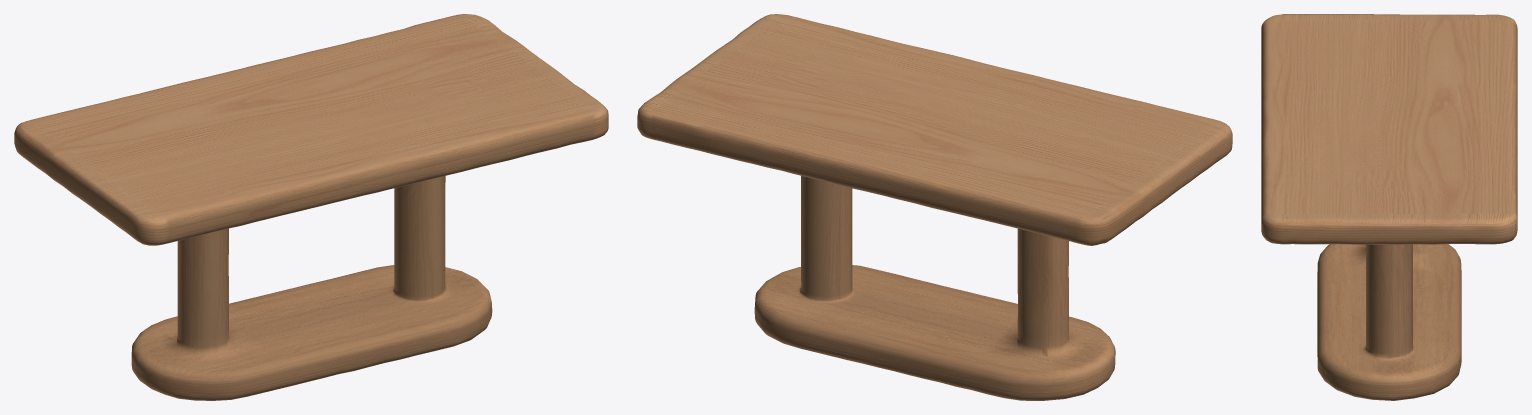
Rendered from Natural_Oak_Coffee_Table.glb.
3 views of the same model, side by side, from view 1: azimuth 30°, elevation 25°; view 2: azimuth 150°, elevation 25°; view 3: azimuth 270°, elevation 25° (orthographic). The views are drawn at different scales.
Bounding box in the file's own units: 1.91 × 0.8922 × 0.9861.
1 material, 1 textured.
